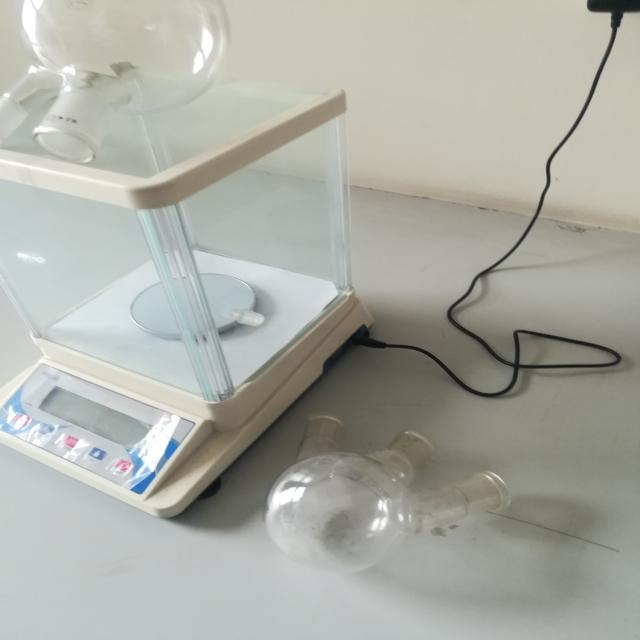Round_Bottom_Flask_Borosilicate_Glass_2_Neck: (0, 0, 249, 186)
Round_Bottom_Flask_Borosilicate_Glass_3_Neck: (224, 368, 578, 609)
